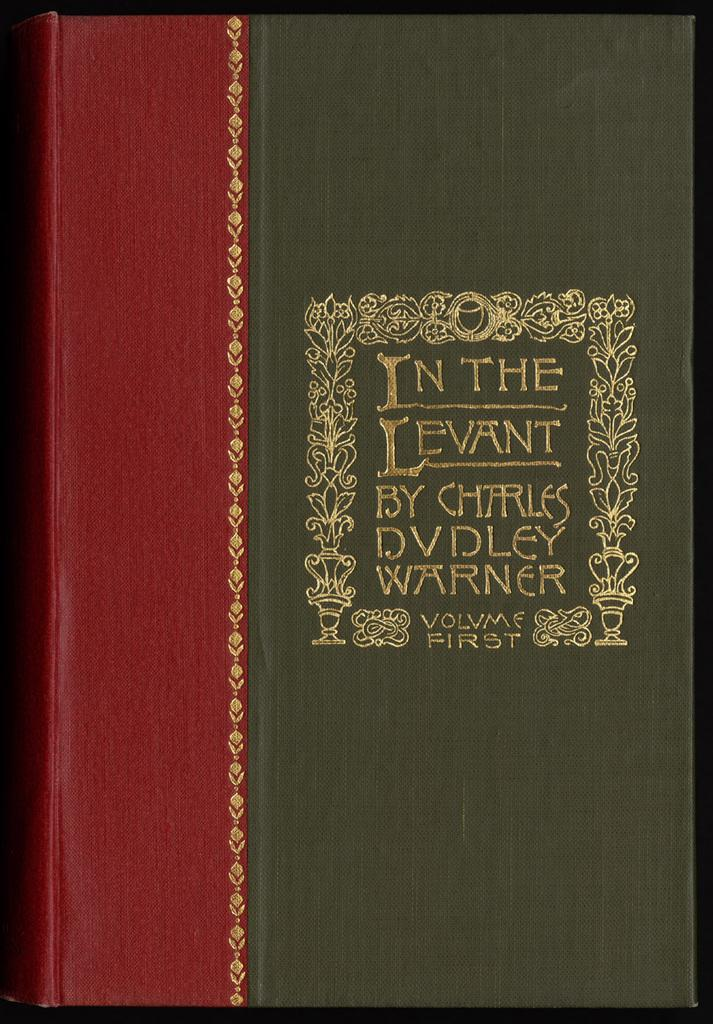book: (32, 11, 688, 1006)
